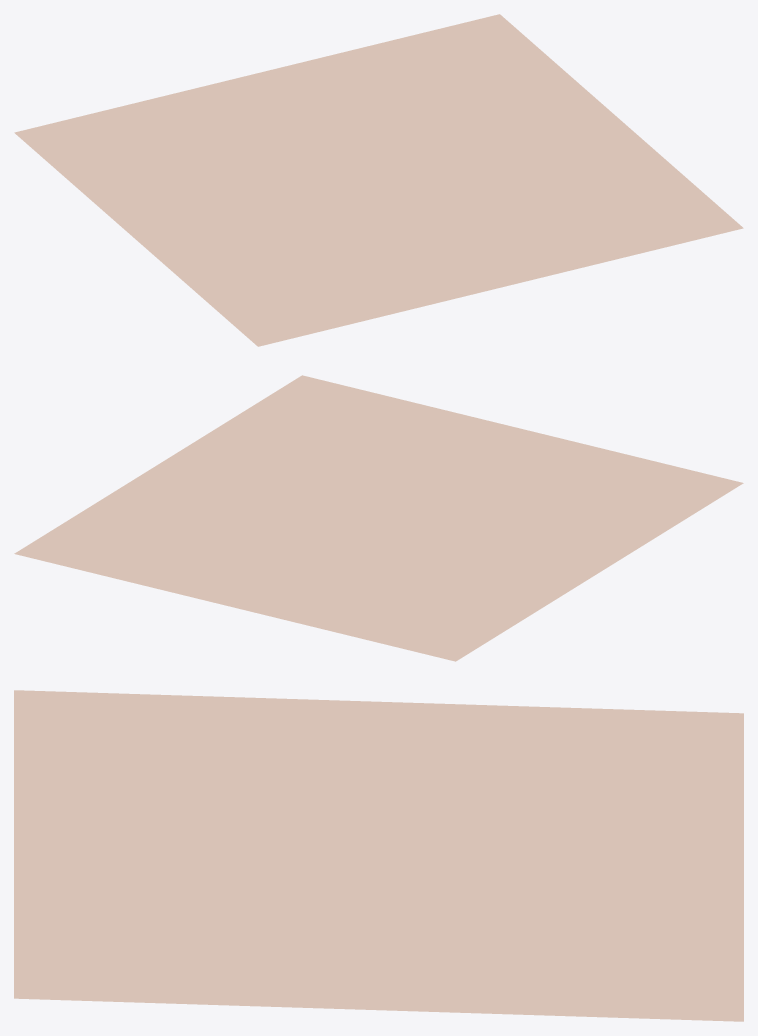
File: morph.fbx
3 renders of one model, top to bottom at view 1: azimuth 30°, elevation 25°; view 2: azimuth 150°, elevation 25°; view 3: azimuth 270°, elevation 25°, orthographic. The views are drawn at different scales.
Parts seen in each view (by area): view 1: Face; view 2: Face; view 3: Face.
Part boxes in pixels (x1,y1,x2,y2): Face: (14, 14, 743, 346); Face: (14, 375, 743, 661); Face: (14, 690, 743, 1021).
Size of the model in its own units: 215 by 8.74e-06 by 200.
